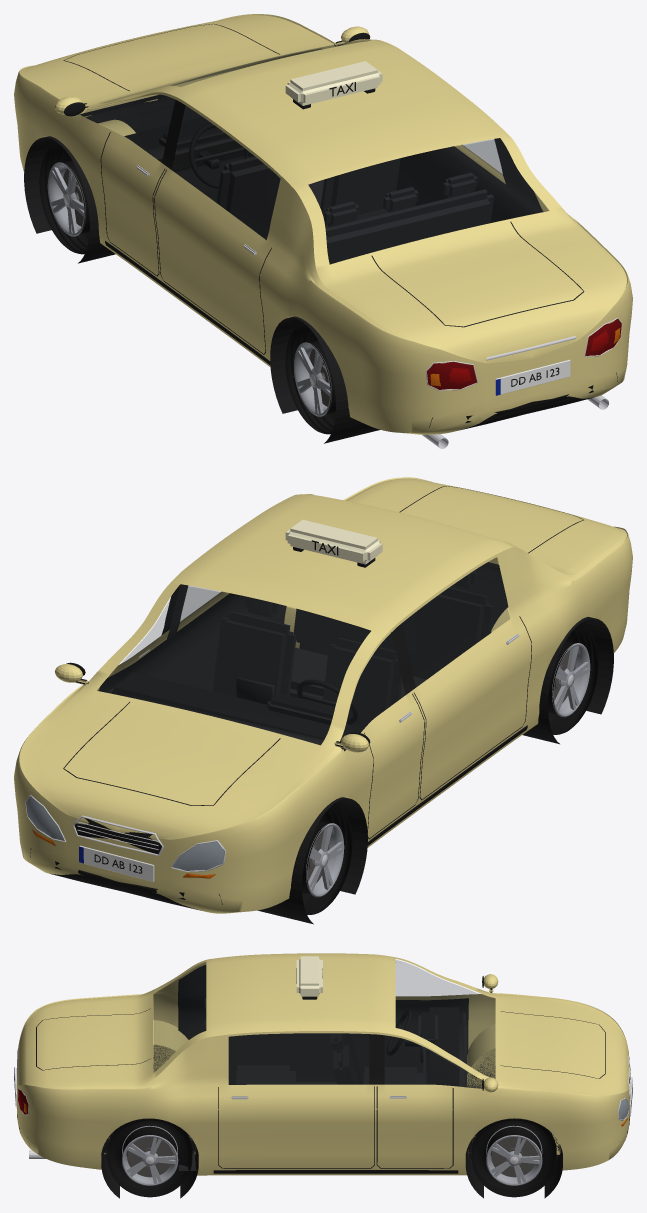
Rendered from taxi_player.glb.
3 renders of one model, top to bottom at view 1: azimuth 30°, elevation 25°; view 2: azimuth 150°, elevation 25°; view 3: azimuth 270°, elevation 25°, orthographic. The views are drawn at different scales.
Parts seen in each view (by area): view 1: Body, Glass, Interior, Lights, Rim_FL, Rim_RL, Tire_RL, Tire_FL; view 2: Body, Glass, Interior, Lights, Rim_RL, Rim_FL, Tire_FL, Tire_RL; view 3: Body, Glass, Interior, Tire_FR, Tire_RR, Rim_FR, Rim_RR, Lights.
Part boxes in pixels (x1=…): Body: x1=14, y1=14, x2=632, y2=448; Glass: x1=82, y1=40, x2=547, y2=263; Interior: x1=111, y1=95, x2=543, y2=377; Lights: x1=285, y1=61, x2=621, y2=389; Rim_FL: x1=47, y1=162, x2=85, y2=236; Rim_RL: x1=294, y1=342, x2=331, y2=416; Tire_RL: x1=285, y1=323, x2=335, y2=434; Tire_FL: x1=39, y1=143, x2=89, y2=254; Body: x1=14, y1=477, x2=632, y2=924; Glass: x1=98, y1=558, x2=509, y2=750; Interior: x1=98, y1=571, x2=494, y2=751; Lights: x1=26, y1=519, x2=382, y2=878; Rim_RL: x1=552, y1=643, x2=590, y2=717; Rim_FL: x1=306, y1=823, x2=344, y2=897; Tire_FL: x1=302, y1=803, x2=352, y2=914; Tire_RL: x1=548, y1=623, x2=598, y2=734; Body: x1=14, y1=953, x2=632, y2=1198; Glass: x1=154, y1=960, x2=494, y2=1088; Interior: x1=178, y1=965, x2=468, y2=1170; Tire_FR: x1=472, y1=1118, x2=556, y2=1197; Tire_RR: x1=107, y1=1118, x2=192, y2=1197; Rim_FR: x1=486, y1=1125, x2=542, y2=1185; Rim_RR: x1=122, y1=1125, x2=178, y2=1185; Lights: x1=18, y1=956, x2=628, y2=1126.
Size of the model in its own units: 2.14 by 1.61 by 4.96.
